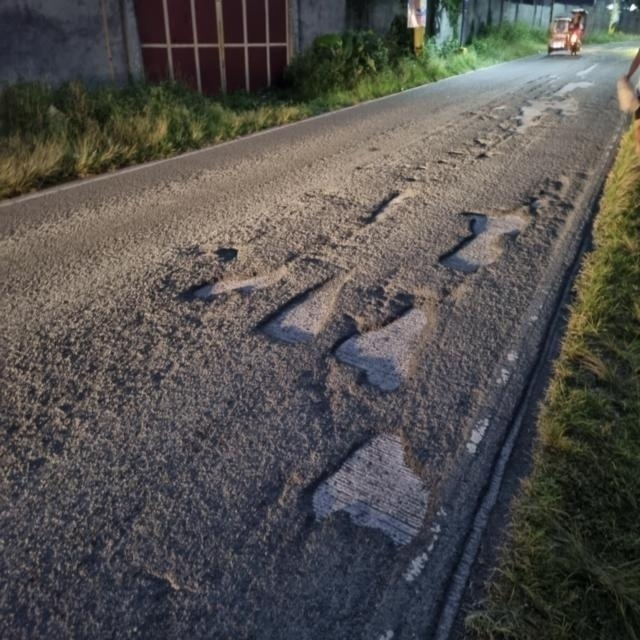pothole: (204, 235, 448, 551)
